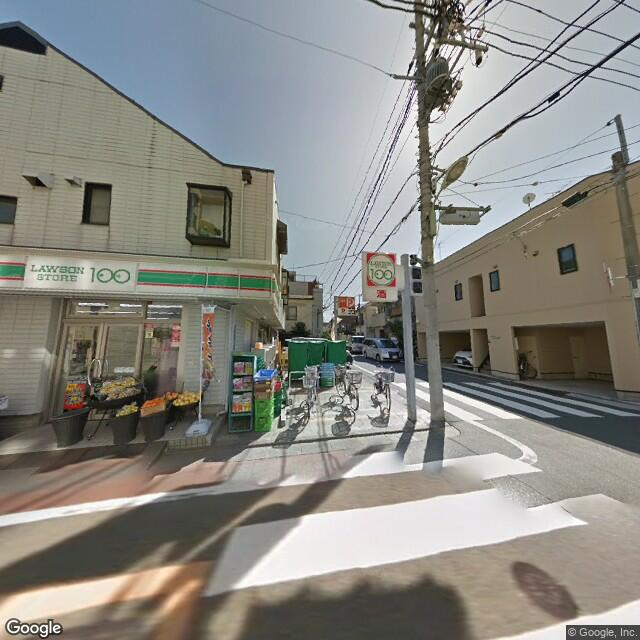lawson: (1, 247, 284, 319), (364, 248, 395, 285)
